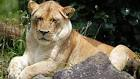lion: (7, 4, 134, 74)
